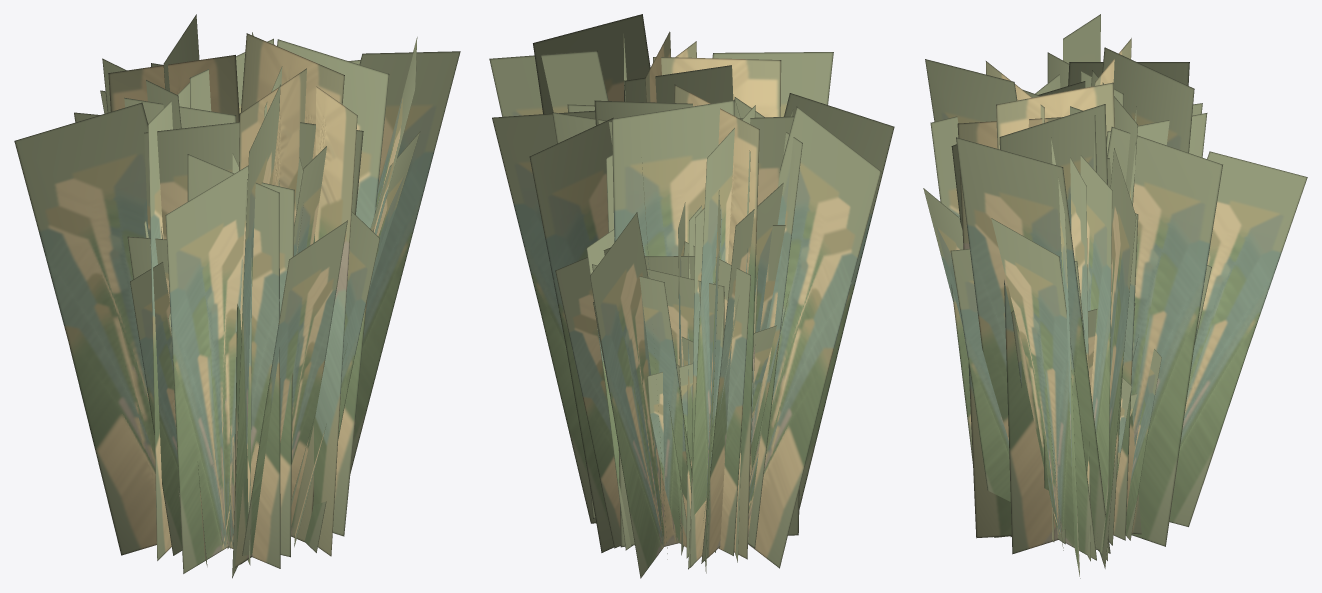
The model's file is beachgrass.glb.
The picture shows the model from 3 angles, left to right: view 1: azimuth 30°, elevation 25°; view 2: azimuth 150°, elevation 25°; view 3: azimuth 270°, elevation 25°; orthographic projection. The views are drawn at different scales.
Visible parts, largest first — view 1: beachgrass_c_lod0, beachgrass_b_lod0; view 2: beachgrass_c_lod0, beachgrass_b_lod0, beachgrass_a_lod0; view 3: beachgrass_c_lod0, beachgrass_b_lod0, beachgrass_a_lod0.
Part boxes in pixels (box(x1,y1,x2,y2)): beachgrass_c_lod0: box(14, 14, 460, 578); beachgrass_b_lod0: box(127, 220, 230, 548); beachgrass_c_lod0: box(489, 14, 894, 578); beachgrass_b_lod0: box(555, 225, 788, 555); beachgrass_a_lod0: box(647, 363, 762, 483); beachgrass_c_lod0: box(923, 14, 1307, 578); beachgrass_b_lod0: box(1011, 265, 1211, 540); beachgrass_a_lod0: box(1116, 378, 1137, 478).
Size of what is drawn, in the model's own units: 1.05 by 1.13 by 0.8576.
1 material, 1 textured.
